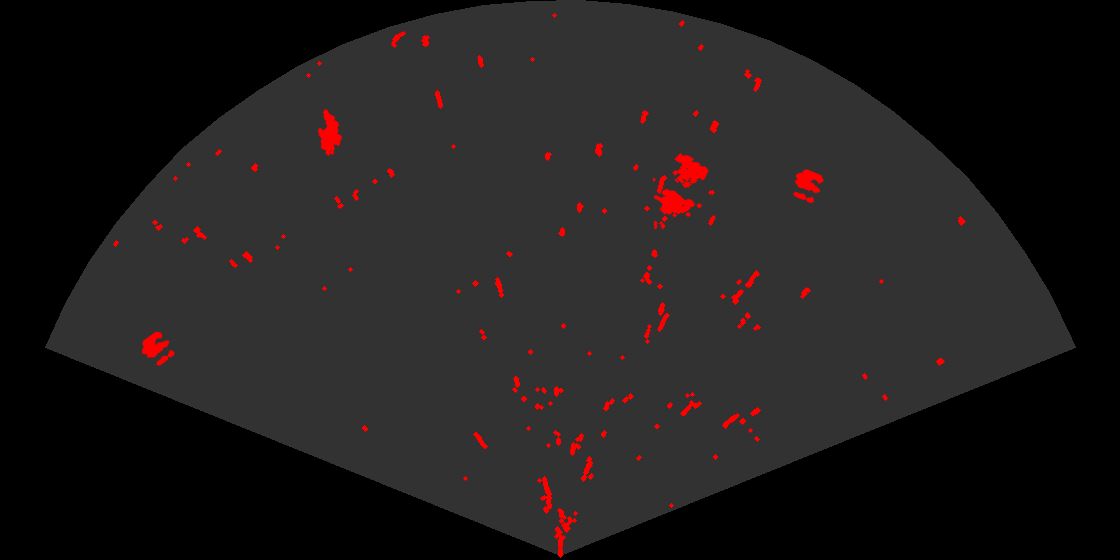AUV: (316, 107, 344, 158)
ball: (140, 330, 176, 367), (791, 168, 825, 205)
cage: (653, 151, 710, 229)
